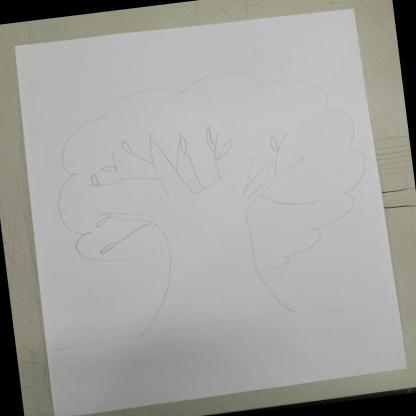branch_sharp: (78, 112, 324, 249)
crown_cloud: (44, 57, 378, 296)
root_none: (122, 295, 318, 359)
trunk_straight: (158, 221, 271, 302)
